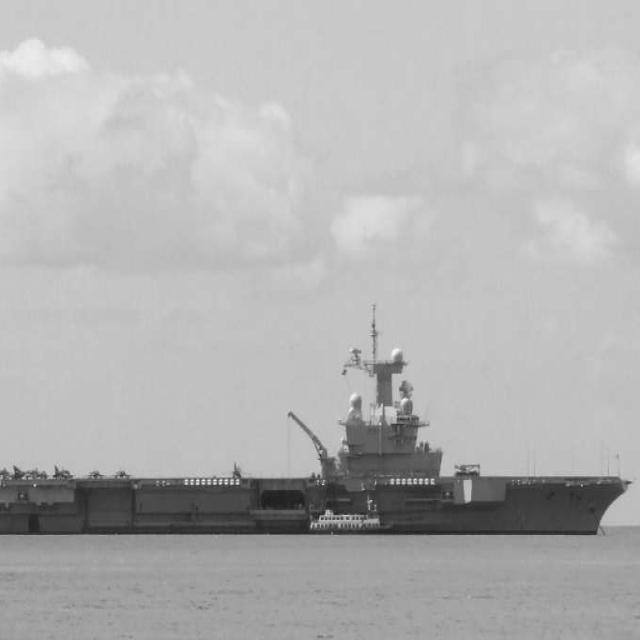Portanaves: (1, 297, 635, 539)
